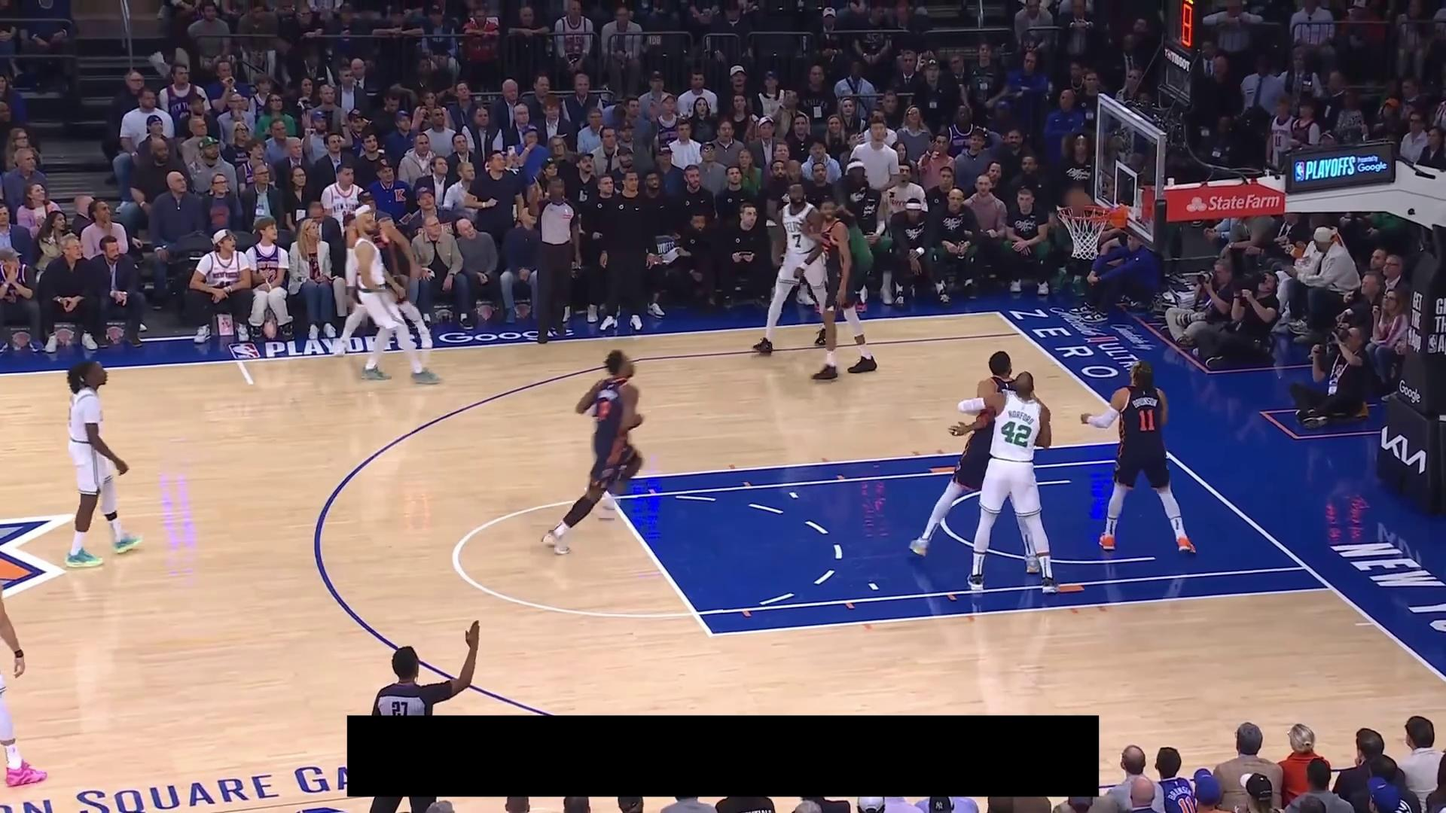ball: (1065, 186, 1091, 215)
number: (1000, 420, 1032, 447), (1138, 408, 1155, 433), (792, 233, 803, 249)
player: (908, 349, 1042, 562), (1081, 358, 1197, 557), (539, 348, 648, 558), (965, 368, 1061, 595), (63, 357, 146, 571), (332, 203, 433, 358), (799, 193, 879, 383), (356, 212, 443, 386), (751, 180, 835, 356), (0, 570, 50, 790)
referee: (369, 618, 480, 813), (527, 175, 582, 345)
rim: (1057, 204, 1112, 221)
